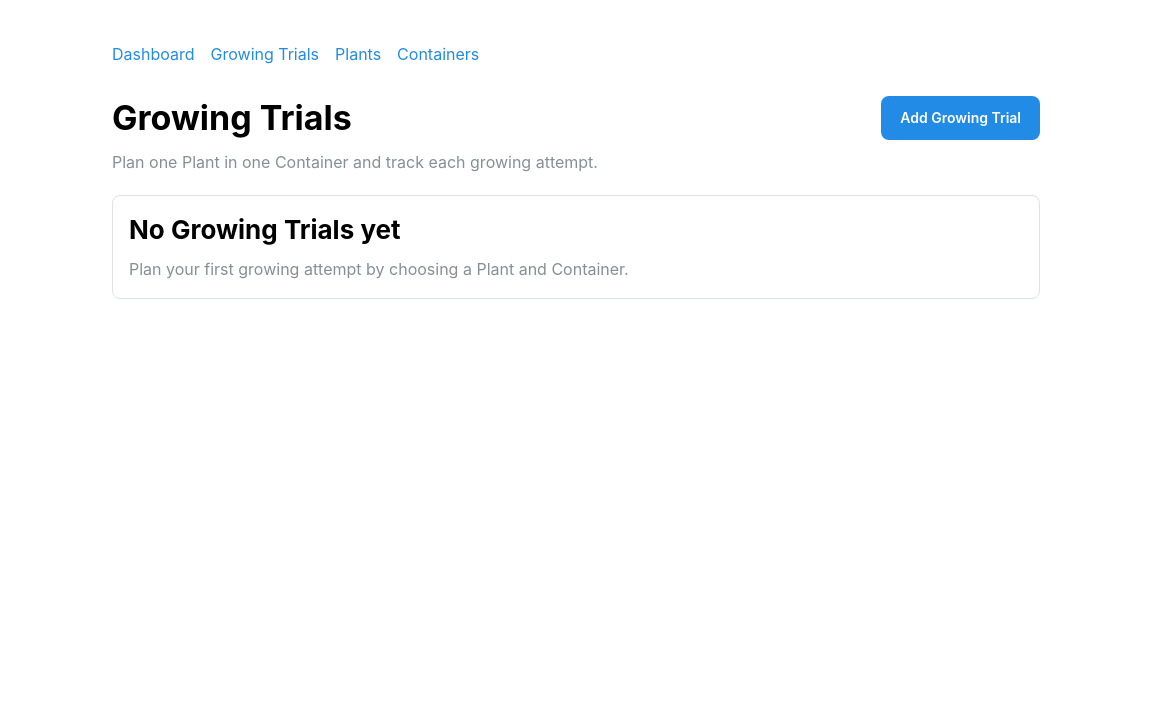
Scenario: GrowingTrialsPage › opens with exactly two bounded option requests
Check: the heading "No Growing Trials yet" is shown, box [129, 214, 401, 245]
Click the button "Add Growing Trial" at (961, 118), box [881, 96, 1040, 140]
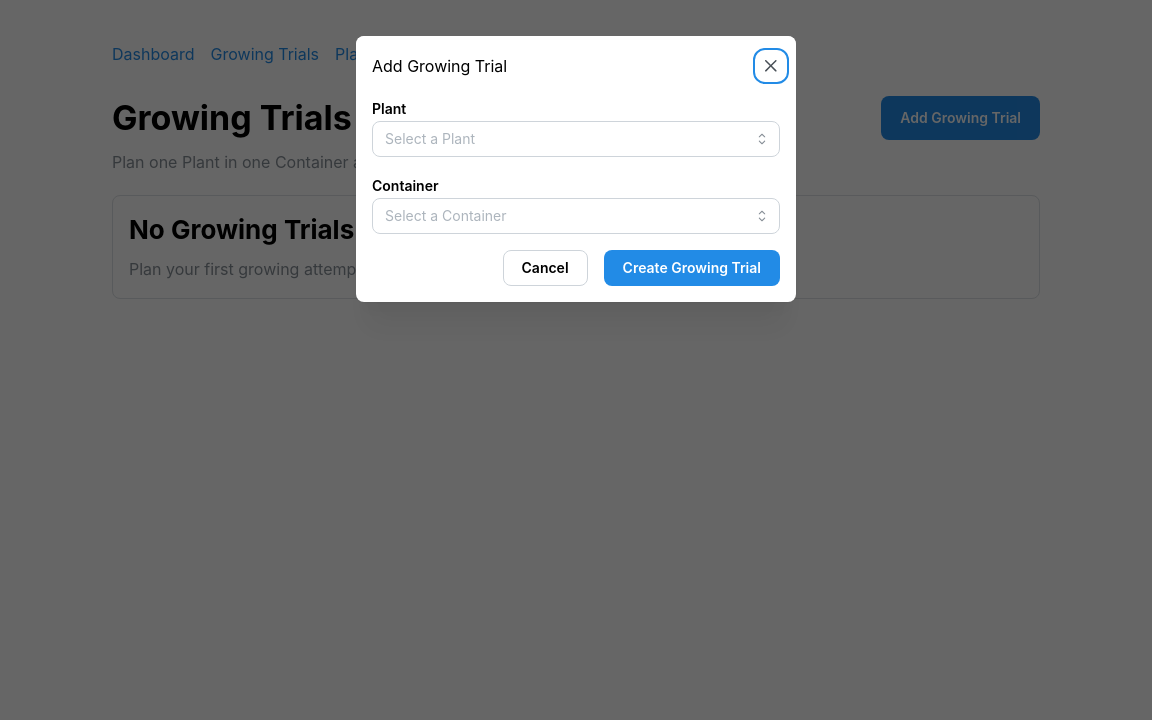
Check: the heading "Add Growing Trial" is shown, box [372, 58, 507, 74]
